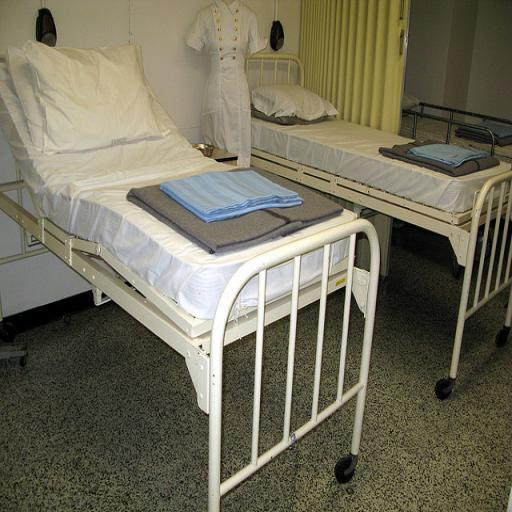bed: (2, 43, 384, 512)
